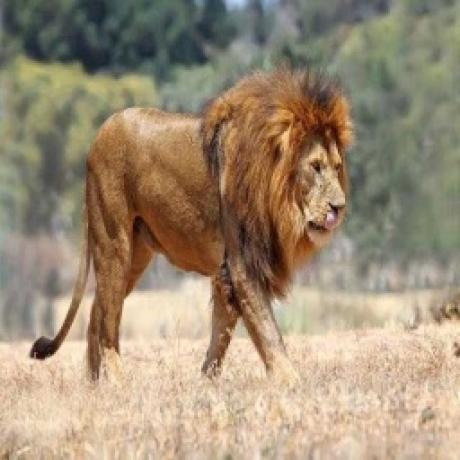Lion: (29, 65, 353, 381)
